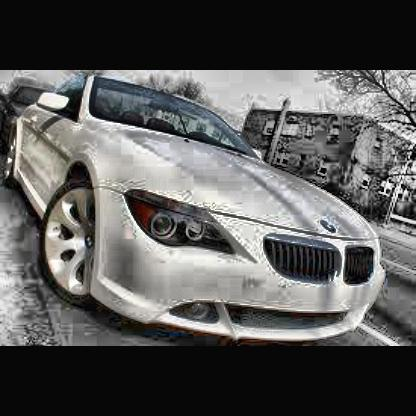BMW 6 Series Convertible 2007: (7, 73, 401, 345)
